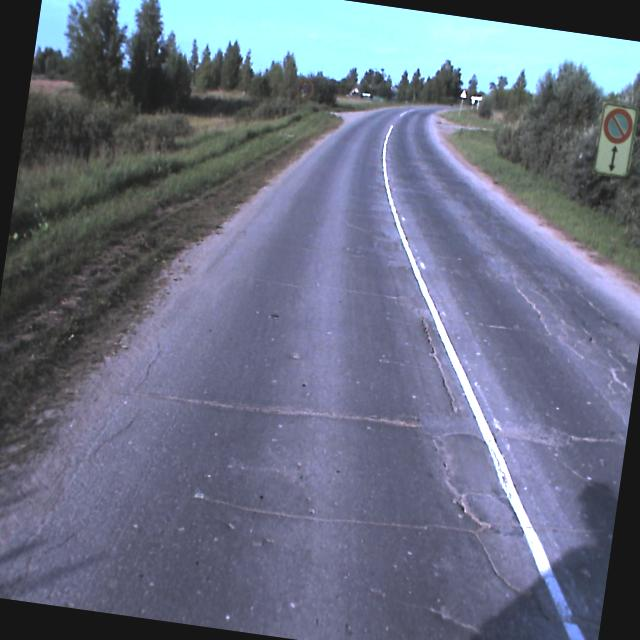road: (0, 106, 640, 640)
